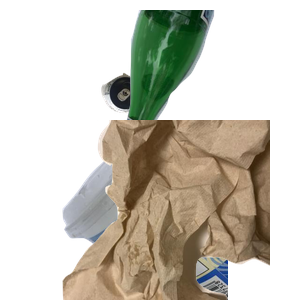glass: (109, 10, 300, 167)
metal: (99, 70, 236, 176)
plastic: (60, 120, 300, 300)
trash: (60, 120, 300, 300)
